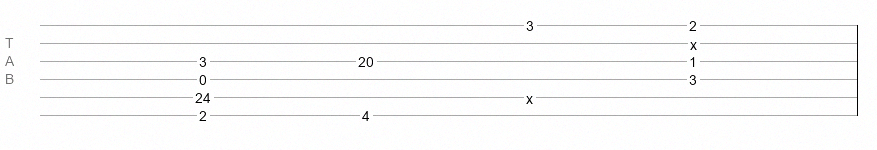0: (199, 72, 207, 82)
1: (689, 54, 697, 64)
2: (199, 108, 207, 118), (689, 18, 697, 28)
20: (358, 54, 374, 64)
24: (195, 90, 211, 100)
3: (199, 54, 207, 64), (526, 18, 534, 28), (689, 72, 697, 82)
4: (362, 108, 370, 118)
x: (526, 91, 533, 99), (690, 37, 697, 45)
